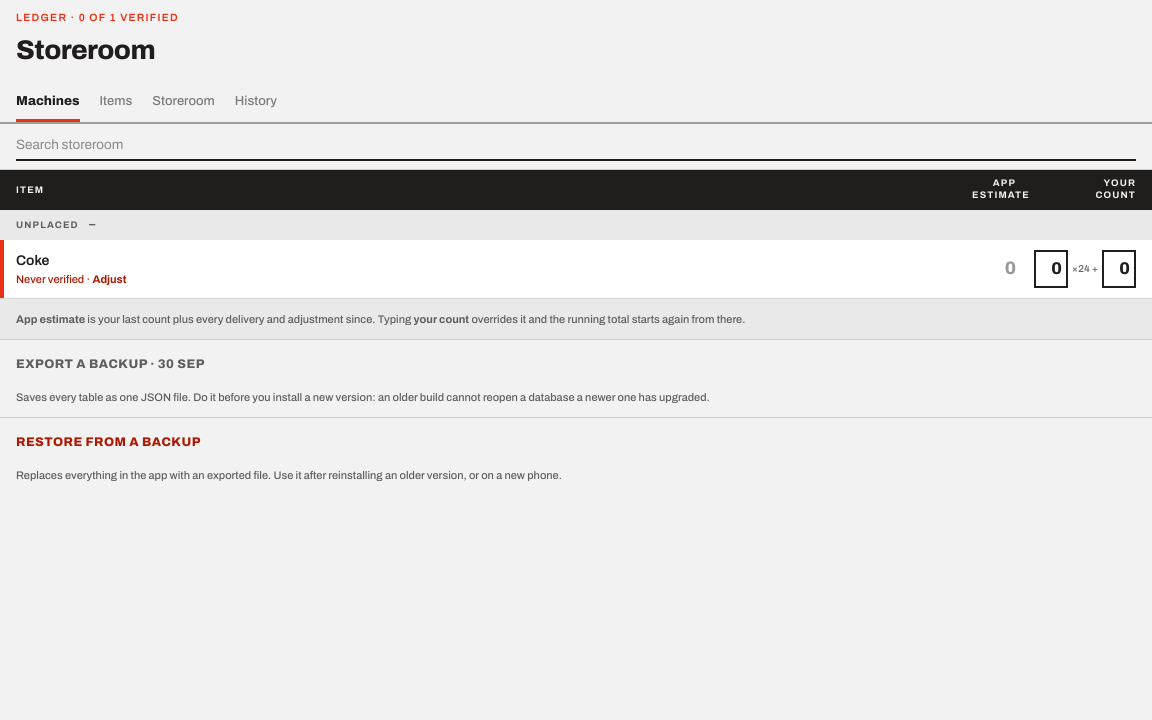
it: StoreroomScreen › recording an adjustment › floats the adjustment sheet over the list rather than below it
Click the button with aria-label "Adjust Coke" at (109, 279), box [92,271,126,288]
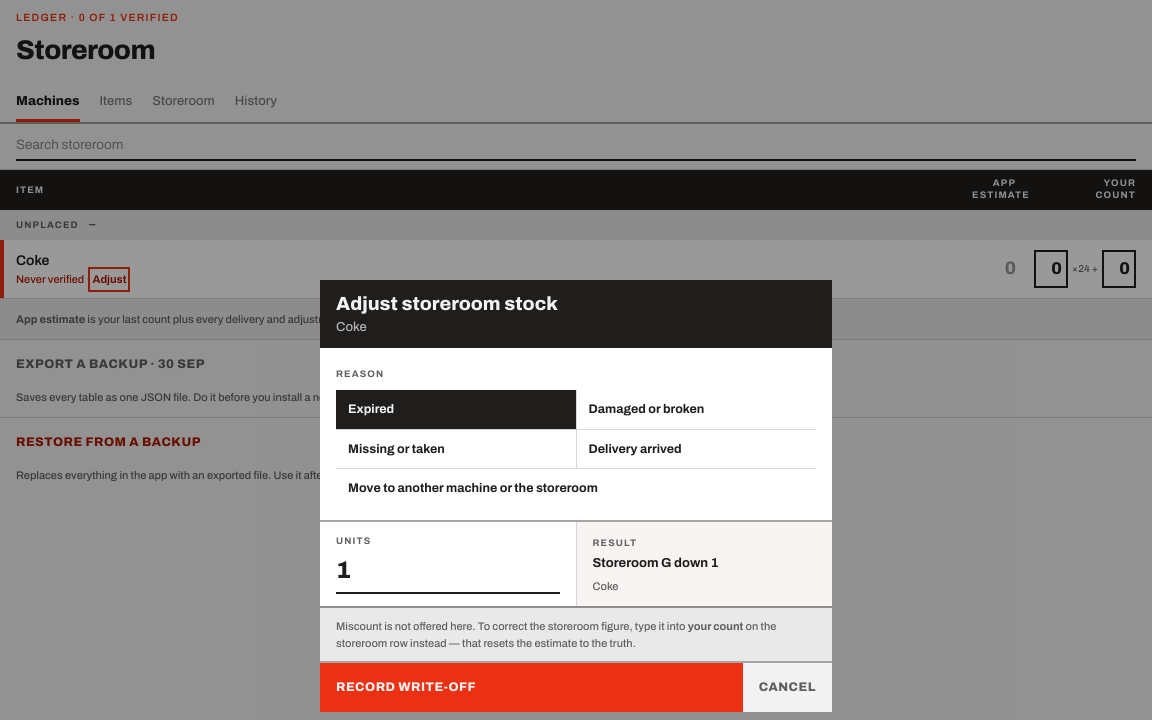
Expected: the element "Adjust storeroom stock" is shown
